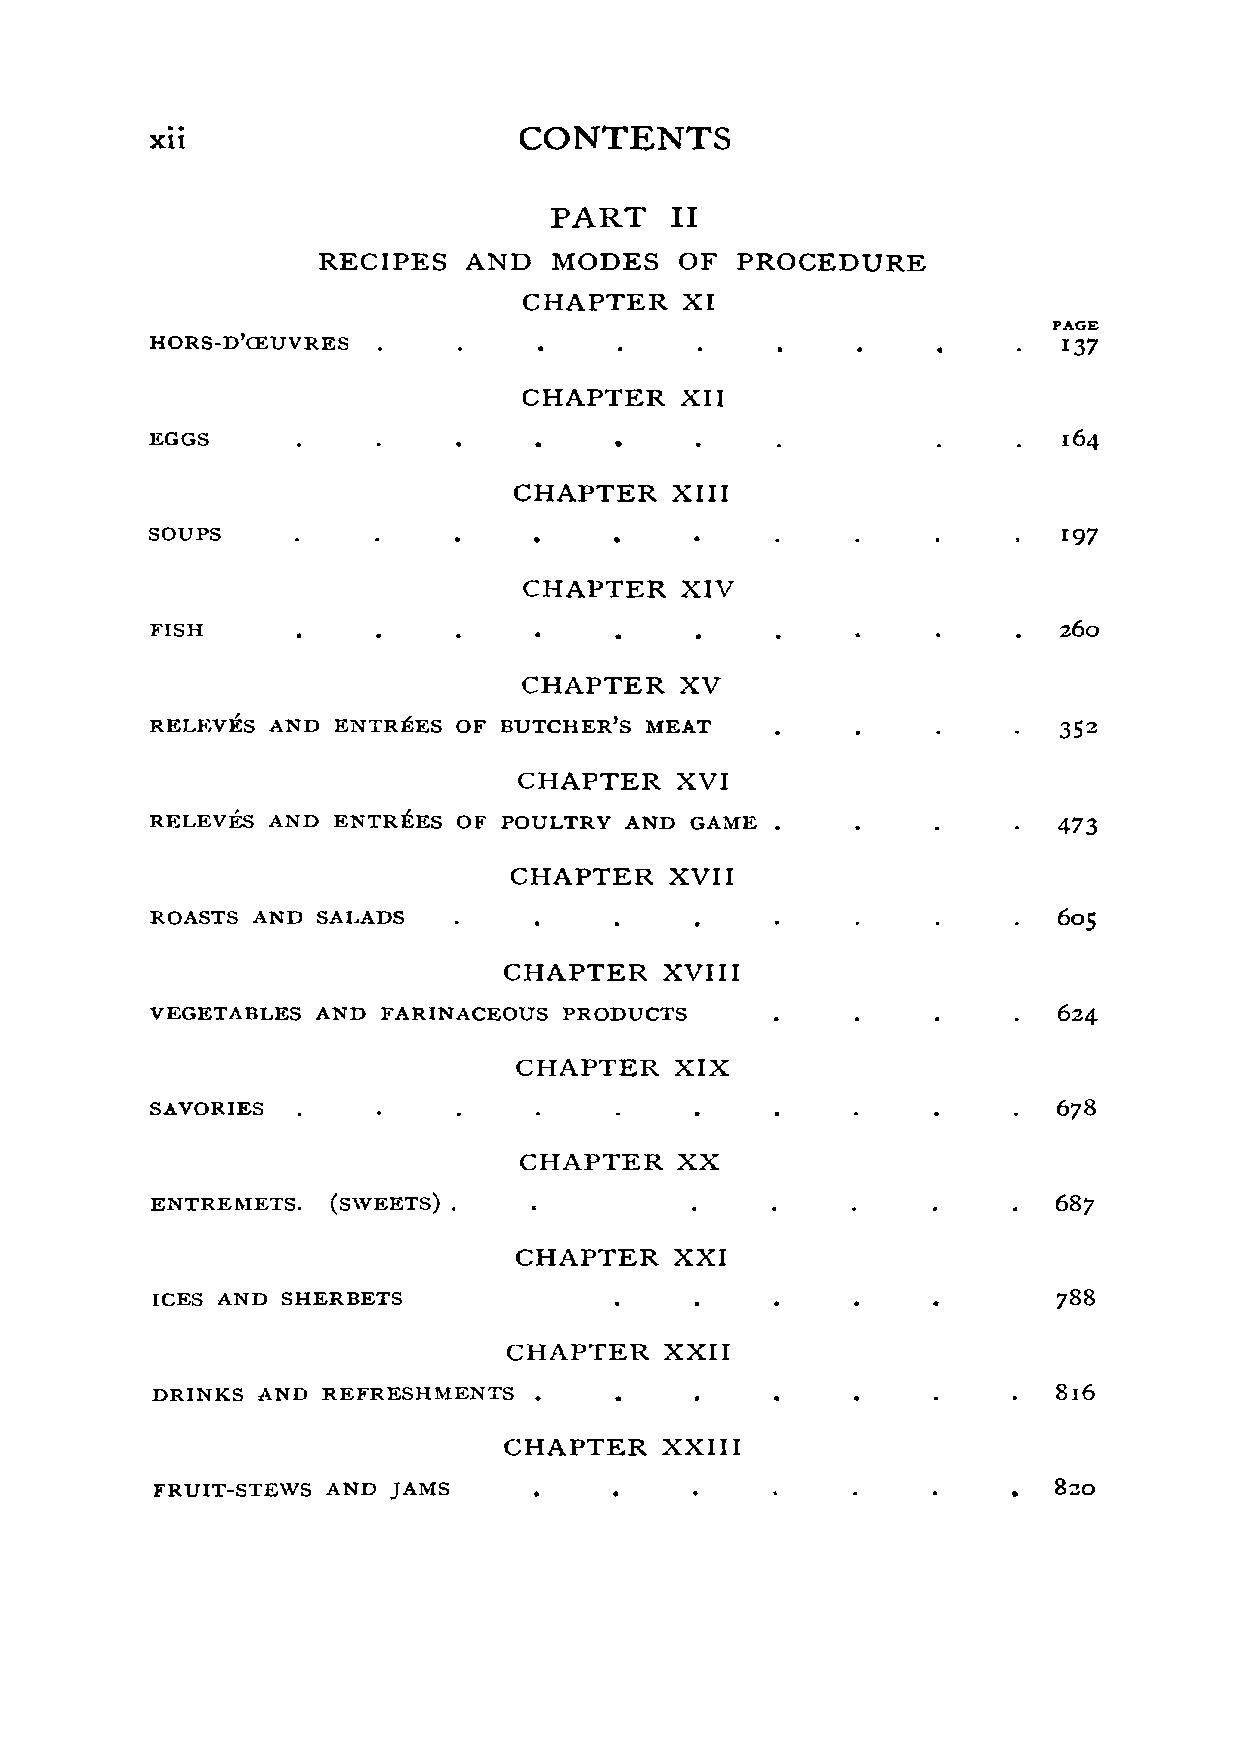TOC_chapter: (311, 195, 939, 278), (145, 702, 714, 737), (145, 997, 695, 1031), (145, 808, 764, 837), (138, 1186, 446, 1228), (144, 1378, 517, 1408), (141, 898, 409, 935), (506, 854, 739, 894), (517, 564, 743, 603), (145, 1282, 407, 1314), (513, 1233, 729, 1272), (148, 1478, 460, 1504), (518, 374, 731, 413), (501, 956, 741, 989), (505, 472, 735, 507), (510, 1048, 738, 1083), (513, 764, 733, 798), (519, 666, 723, 703), (509, 1143, 725, 1178), (140, 322, 360, 356), (499, 1427, 743, 1455), (518, 282, 718, 315), (497, 1339, 731, 1362), (145, 1091, 267, 1121), (141, 511, 227, 548), (138, 420, 215, 448), (145, 609, 211, 639)
TOC_pagenumber: (1043, 1282, 1108, 1319), (1053, 994, 1113, 1033), (1051, 1082, 1100, 1127), (1049, 609, 1103, 646), (1051, 1182, 1098, 1223), (1053, 522, 1107, 556), (1053, 1376, 1104, 1410), (1047, 1474, 1100, 1504), (1055, 713, 1102, 747), (1056, 902, 1103, 937), (1055, 813, 1104, 843), (1053, 429, 1104, 456), (1049, 331, 1100, 356)
chapter: (511, 115, 738, 161)
